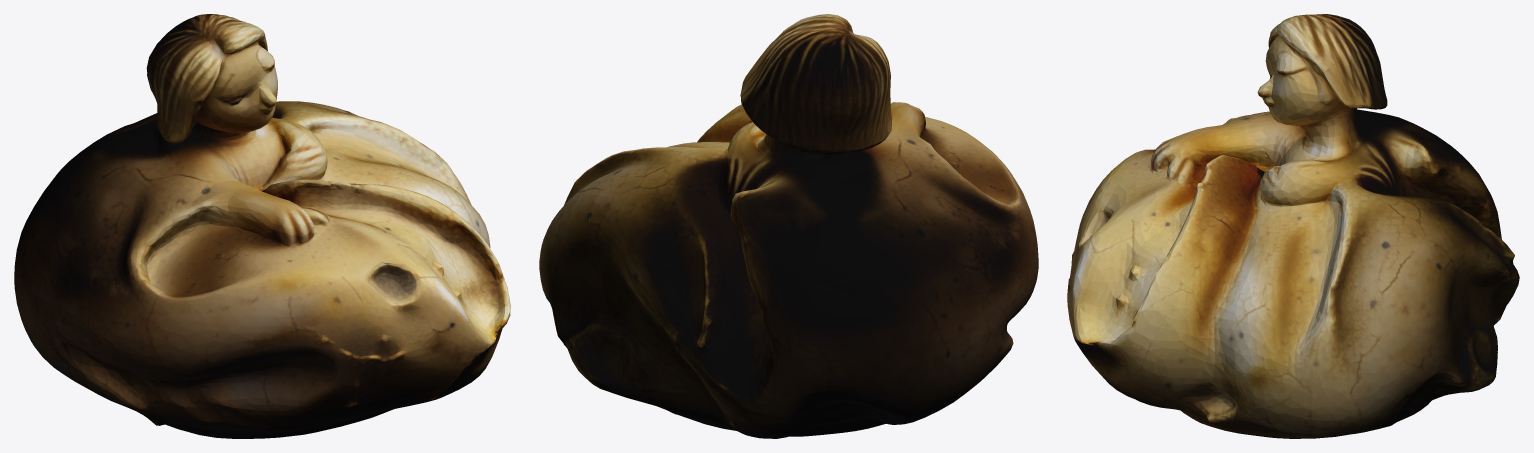
File: ceramic-sculpted-figurine-rustic.jpeg.glb
3 views of the same model, side by side, from view 1: azimuth 30°, elevation 25°; view 2: azimuth 150°, elevation 25°; view 3: azimuth 270°, elevation 25° (orthographic). The views are drawn at different scales.
Parts seen in each view (by area): view 1: world; view 2: world; view 3: world.
Boxes of the visible parts, x1=… form: world: x1=14, y1=14, x2=510, y2=438; world: x1=539, y1=14, x2=1038, y2=438; world: x1=1067, y1=14, x2=1519, y2=438.
Size of the model in its own units: 0.9994 by 0.8068 by 0.9648.
1 material, 1 textured.
